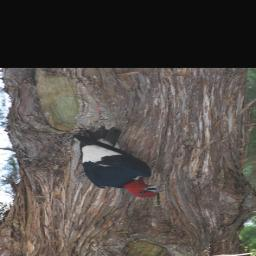Woodpecker: (65, 126, 171, 200)
